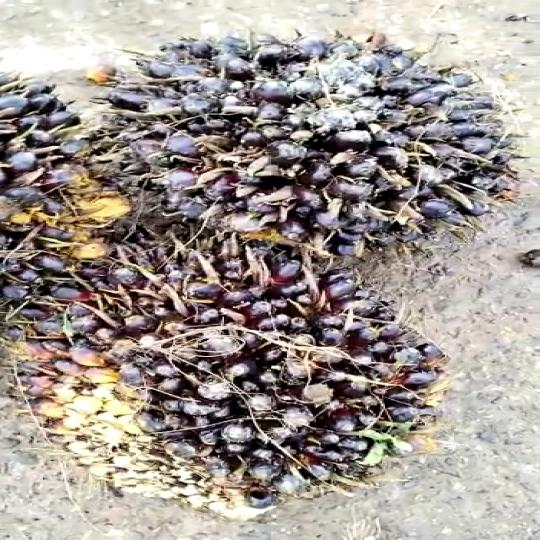mentah: (15, 248, 467, 518), (81, 24, 510, 245)
